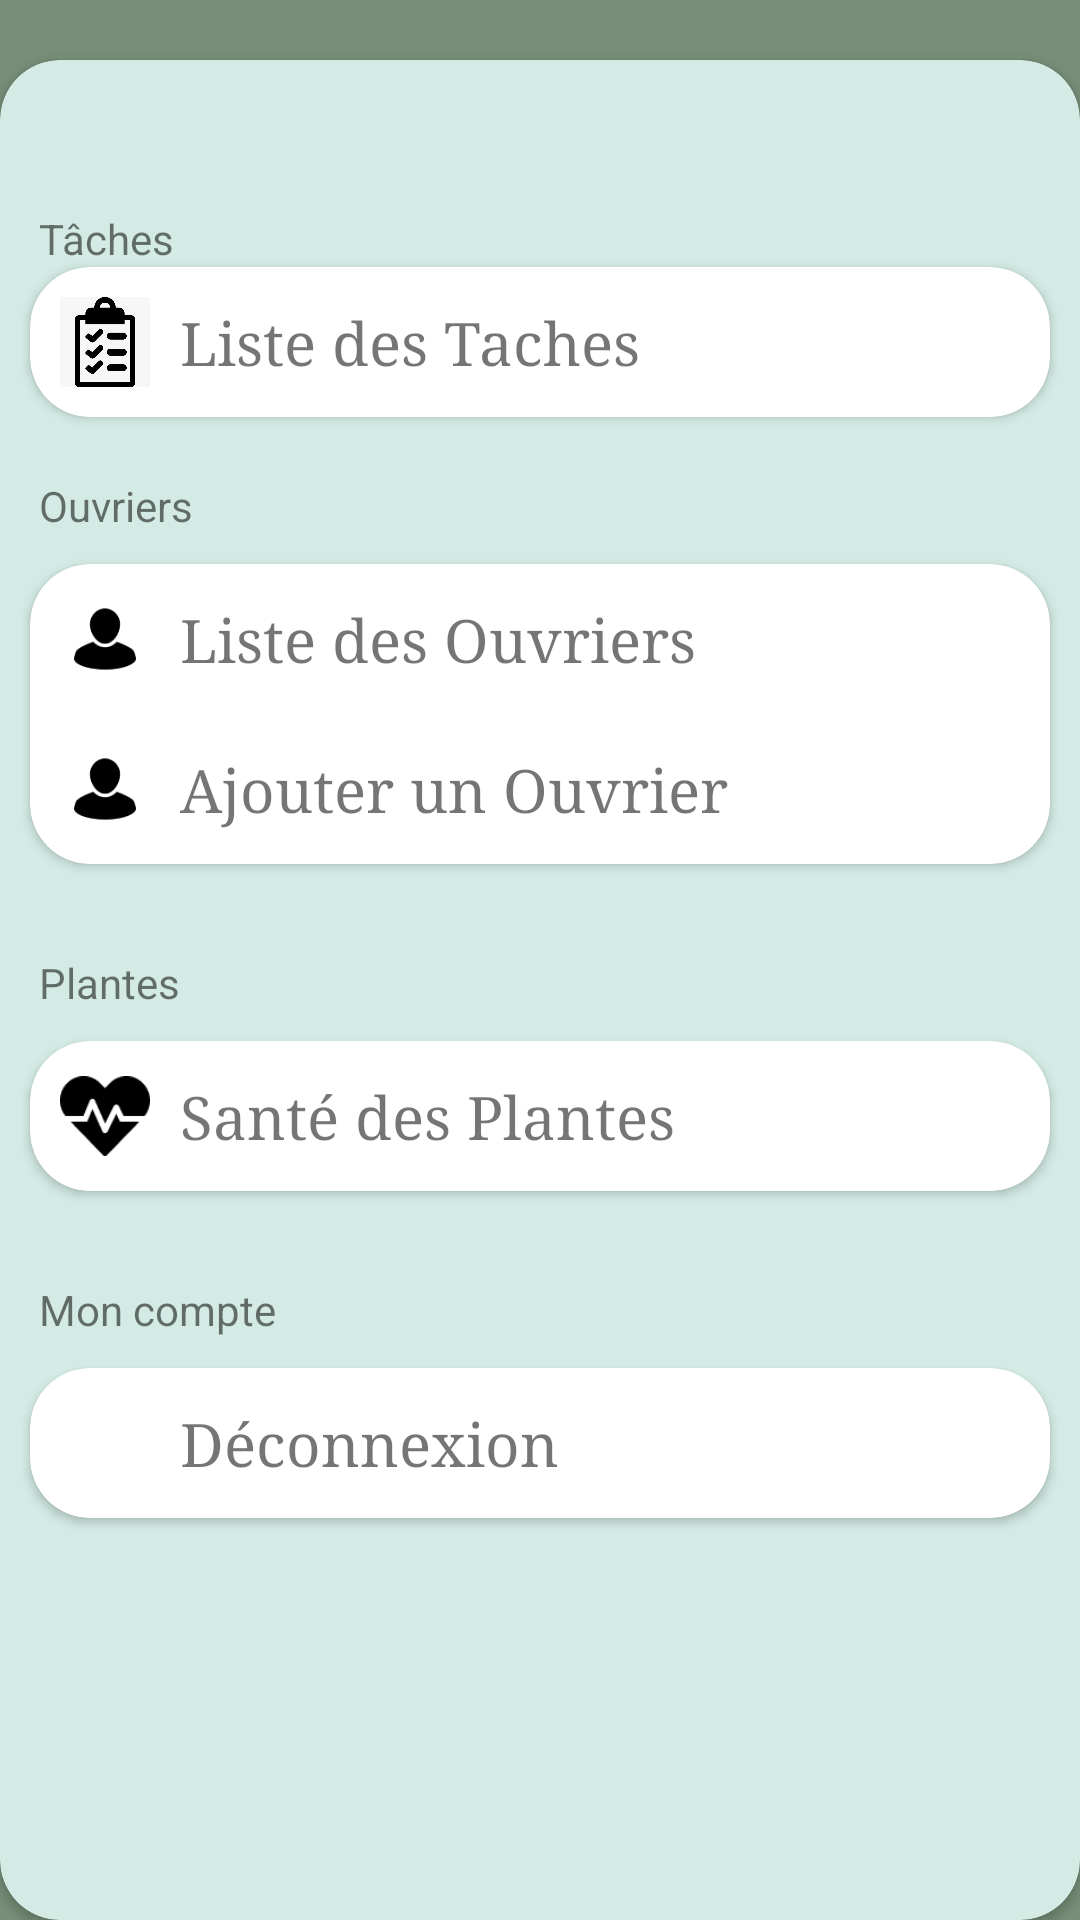

Named icons in this screenshot (1080*1920) and their centers, point (x, y):
task: point (105, 342)
workericon: point (105, 639), point (105, 789)
